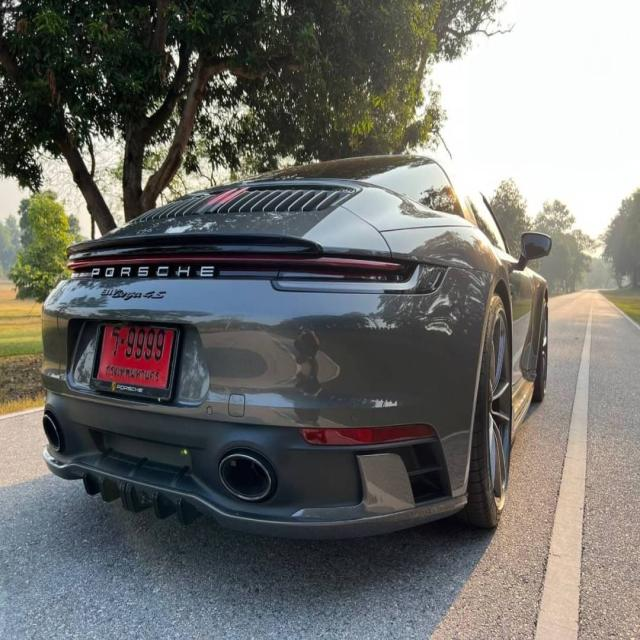license_plate: (85, 304, 186, 412)
